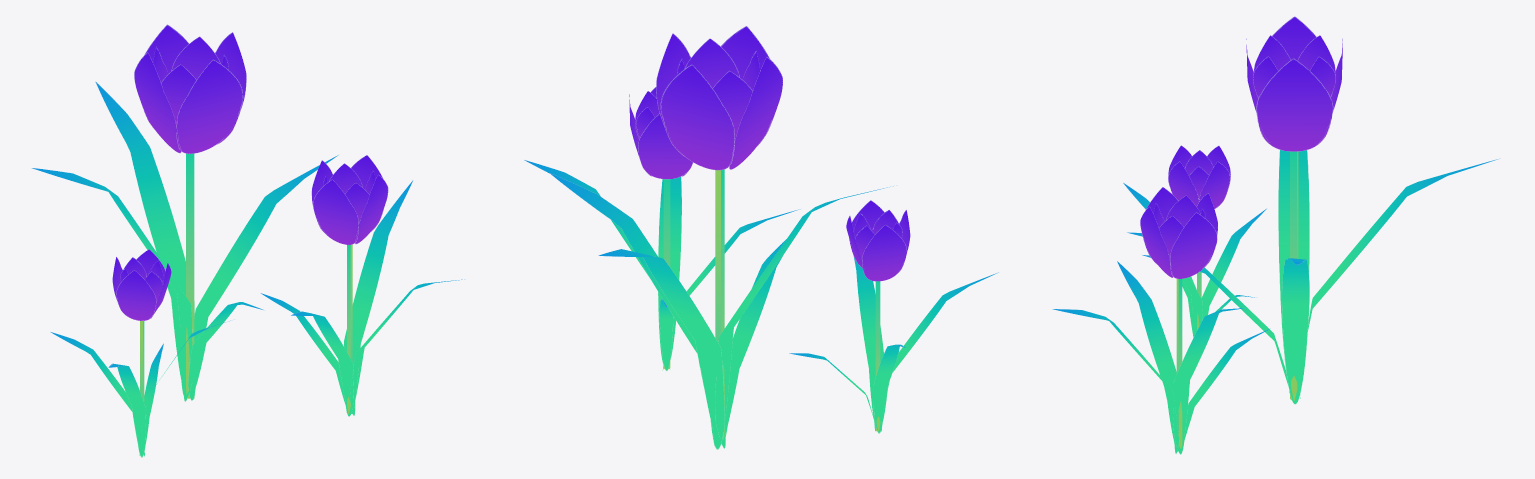
File: Flowers_n02_21.fbx
The picture shows the model from 3 angles, left to right: view 1: azimuth 30°, elevation 25°; view 2: azimuth 150°, elevation 25°; view 3: azimuth 270°, elevation 25°; orthographic projection. The views are drawn at different scales.
Visible parts, largest first — view 1: polySurface308; view 2: polySurface308; view 3: polySurface308.
Boxes of the visible parts, bbox=[...] form: polySurface308: bbox=[31, 24, 464, 457]; polySurface308: bbox=[524, 26, 998, 449]; polySurface308: bbox=[1052, 16, 1500, 454].
Bounding box in the file's own units: 44.94 × 41.63 × 47.54.
Materials: 1 (1 with a texture image).
